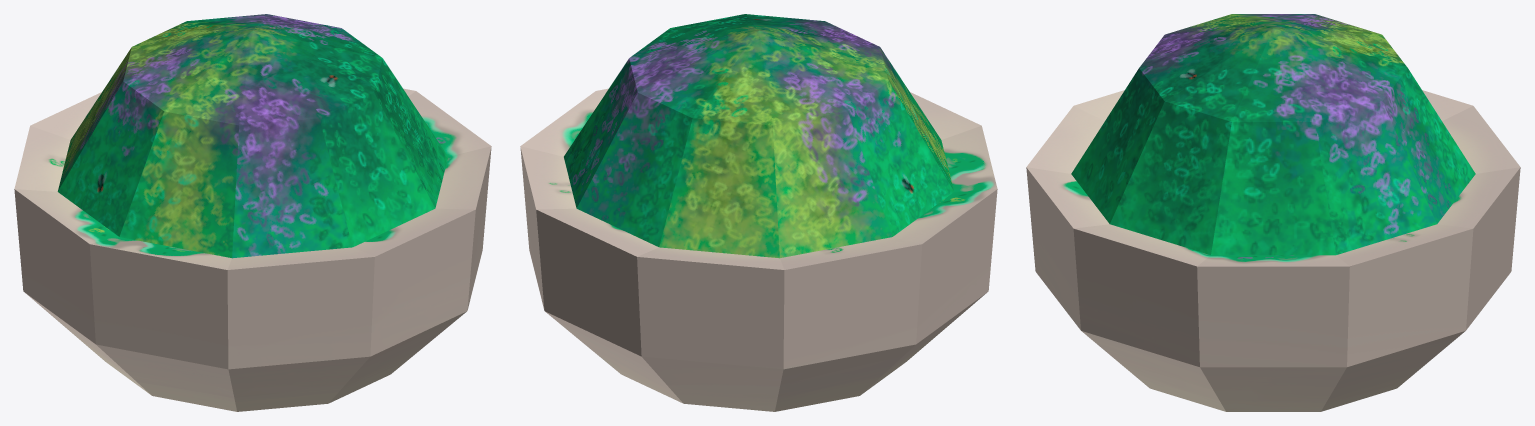
Rendered from tigela_lixo.fbx.
3 views of the same model, side by side, from view 1: azimuth 30°, elevation 25°; view 2: azimuth 150°, elevation 25°; view 3: azimuth 270°, elevation 25° (orthographic).
Visible parts, largest first — view 1: Sphere001; view 2: Sphere001; view 3: Sphere001.
Part boxes in pixels (x1=…): Sphere001: x1=14, y1=14, x2=491, y2=411; Sphere001: x1=520, y1=14, x2=997, y2=411; Sphere001: x1=1026, y1=14, x2=1520, y2=411.
Bounding box in the file's own units: 50.38 × 43.41 × 52.97.
1 material, 1 textured.
